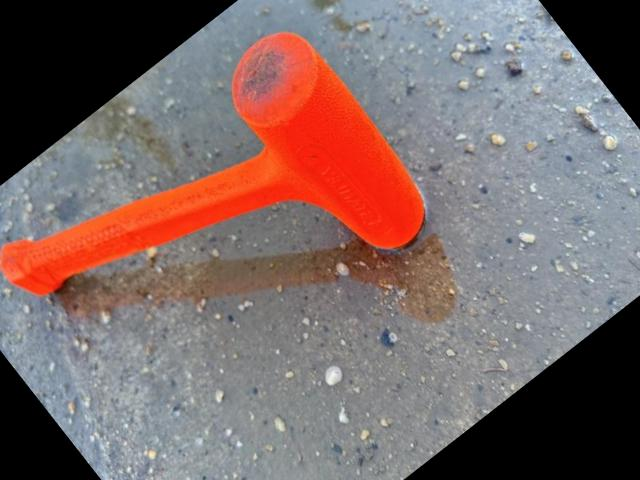hammer: (0, 15, 446, 451)
